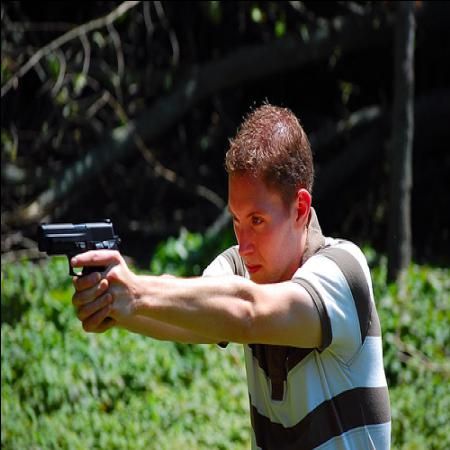Pistol: (35, 216, 122, 317)
